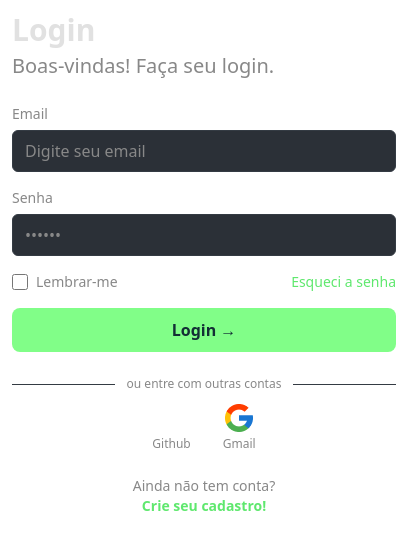
LoginForm › bloqueia o envio e sinaliza os campos quando o e-mail é inválido
The image size is (415, 550).
In the field labelled "Email": (204, 151) [12,130,396,172], type "nao-e-email"
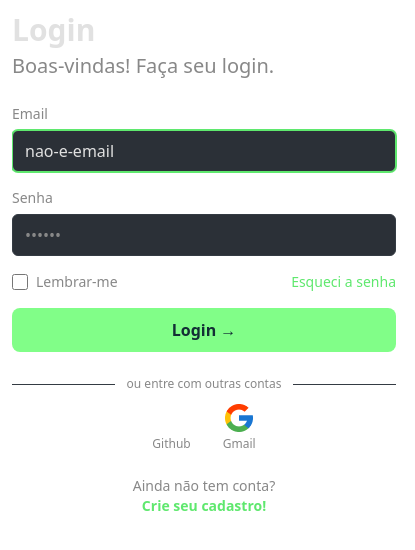
In the password field labelled "Senha": (204, 235) [12,214,396,256], type "segredo"
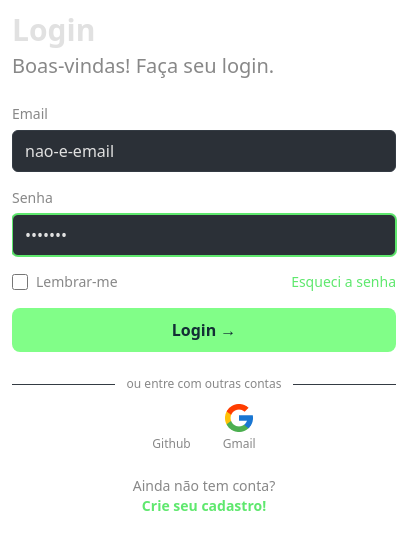
Click the button "Login →": click(204, 330) [12,308,396,352]
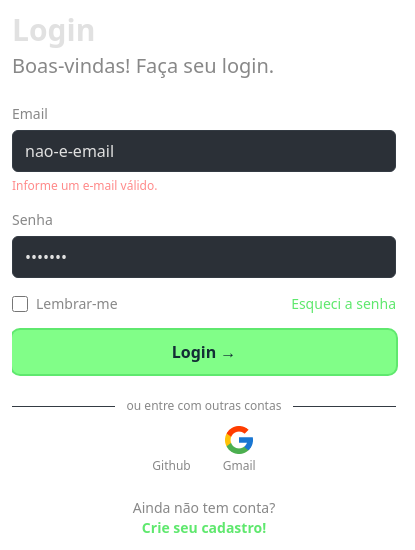
expect the text "Informe um e-mail válido." is shown: met, box [12,177,158,194]
